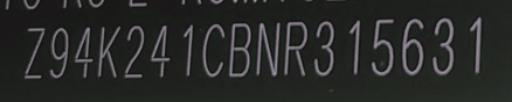letter: (427, 14, 459, 78), (280, 17, 312, 79), (197, 19, 229, 81), (224, 21, 258, 79), (464, 14, 492, 82), (368, 17, 400, 76), (310, 16, 340, 78), (14, 24, 46, 82), (340, 14, 368, 80), (251, 20, 283, 76), (92, 25, 124, 77), (400, 12, 424, 78), (121, 24, 149, 80), (147, 22, 173, 82), (68, 25, 94, 79), (176, 20, 200, 78), (44, 25, 70, 78)
